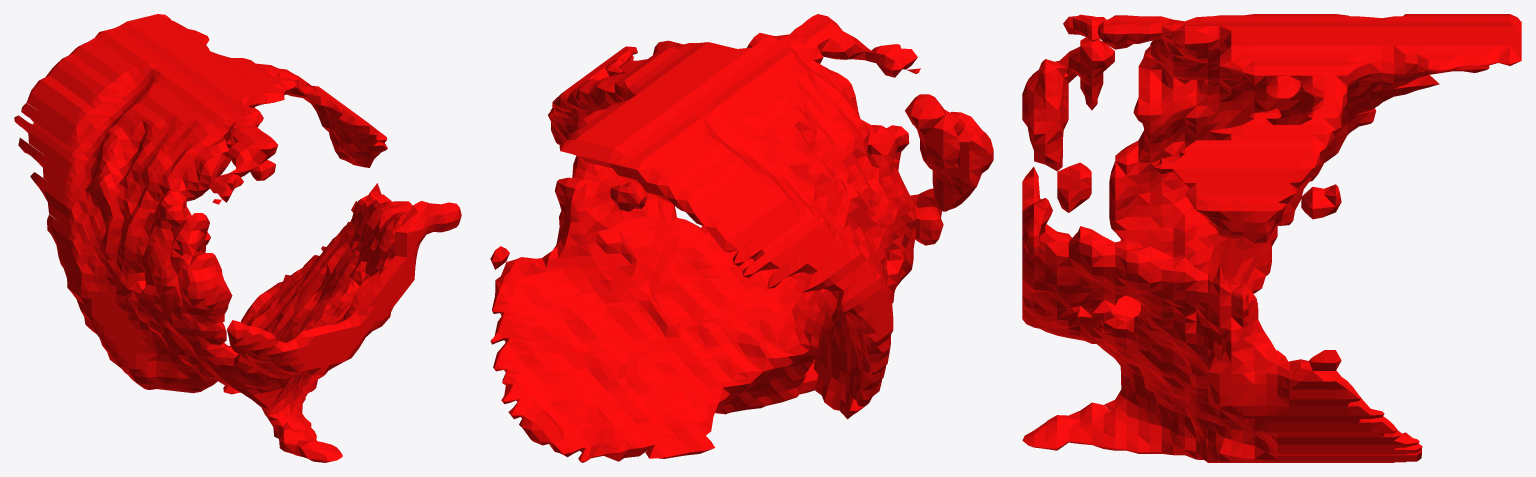
Rendered from B939XXXX-1_valve_39.obj.
The picture shows the model from 3 angles, left to right: view 1: azimuth 30°, elevation 25°; view 2: azimuth 150°, elevation 25°; view 3: azimuth 270°, elevation 25°; orthographic projection. The views are drawn at different scales.
Visible parts, largest first — view 1: 39_valve; view 2: 39_valve; view 3: 39_valve.
Part boxes in pixels (bbox=[...]): 39_valve: bbox=[14, 14, 461, 462]; 39_valve: bbox=[490, 14, 993, 462]; 39_valve: bbox=[1022, 14, 1521, 462].
Bounding box in the file's own units: 77.98 × 76.97 × 85.95.
